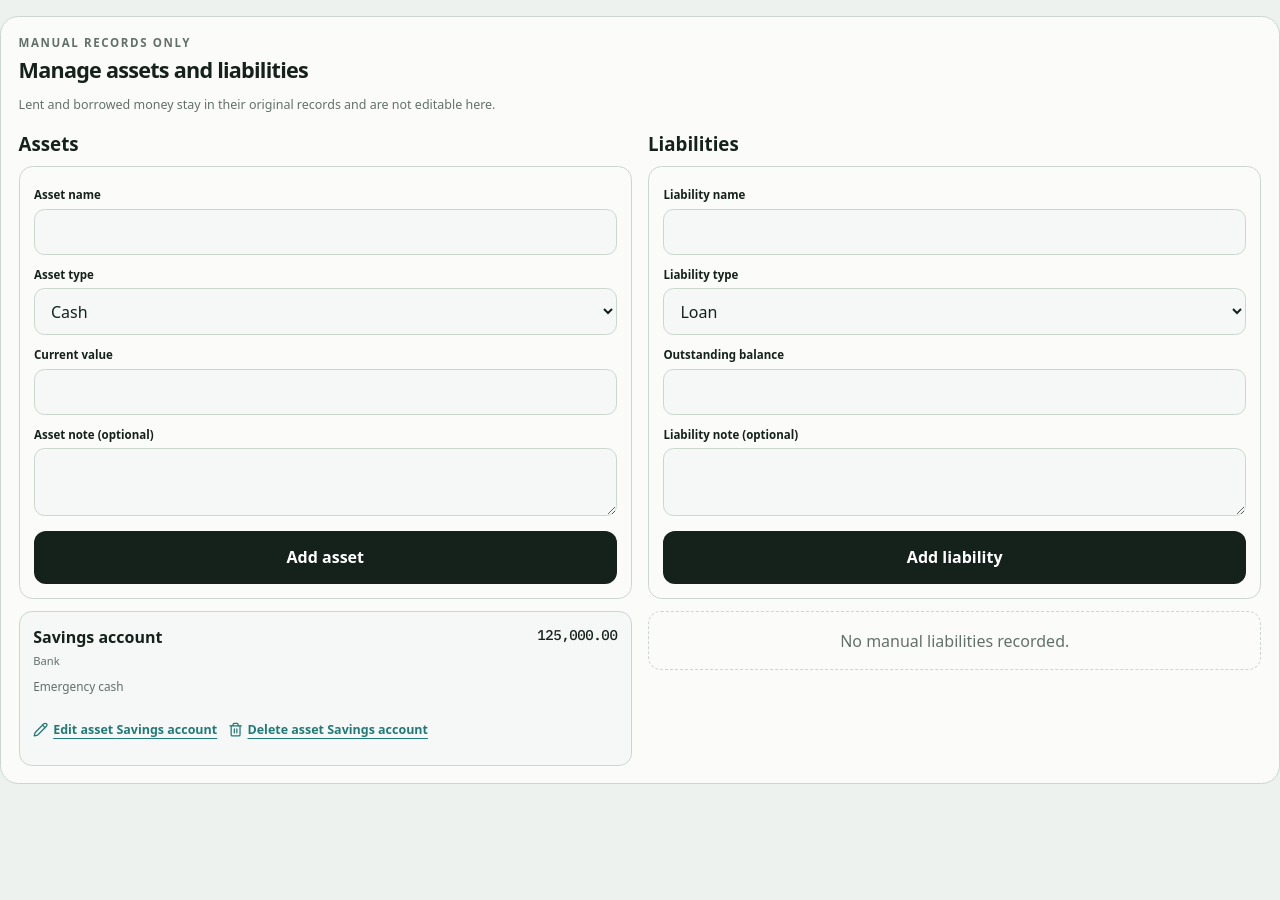
Scenario: NetWorthEditor › cancels deletion without a request, then deletes and refreshes after confirmation
Click the button "Delete asset Savings account" at [328, 729], box [228, 707, 428, 751]
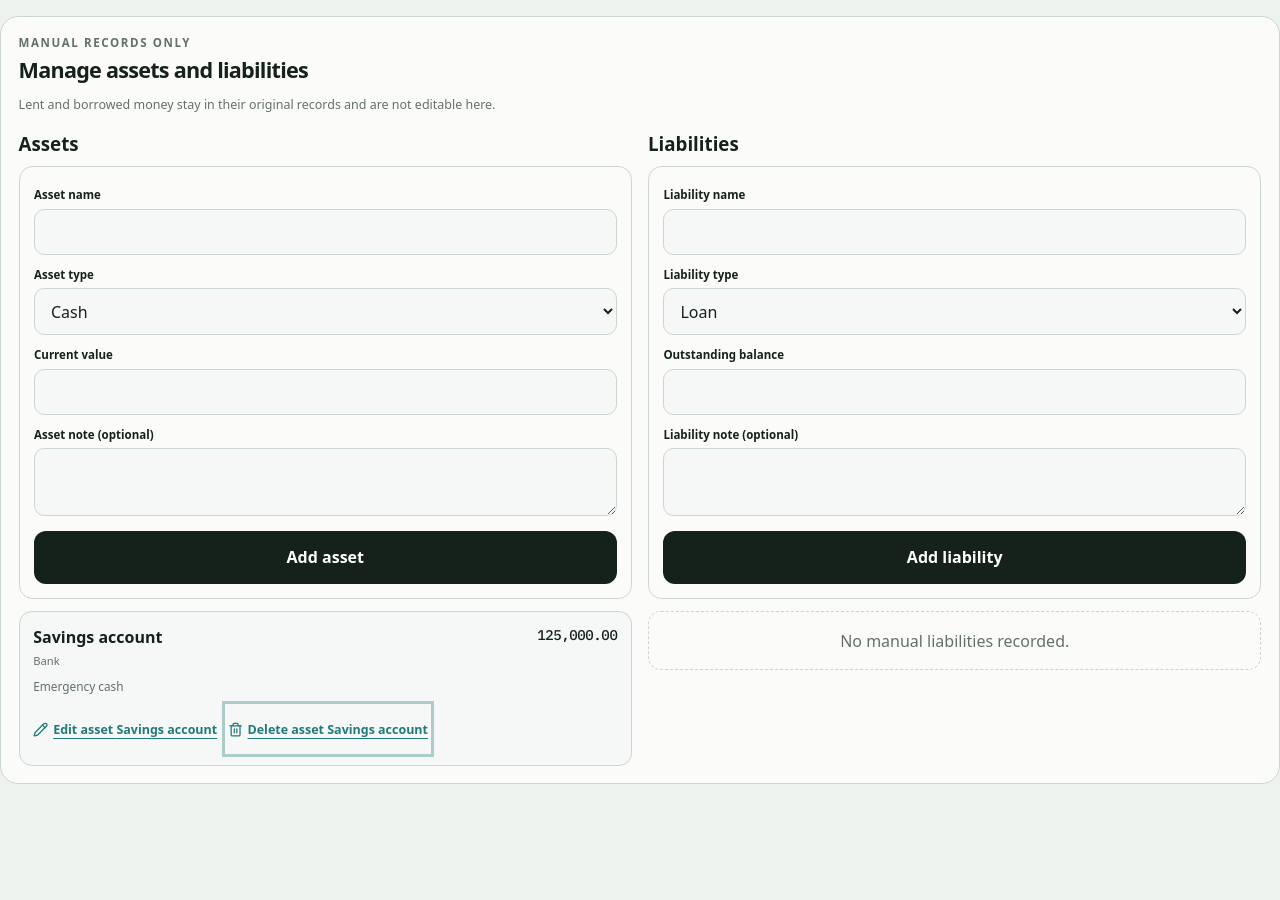
Click the button "Delete asset Savings account" at [328, 729], box [228, 707, 428, 751]
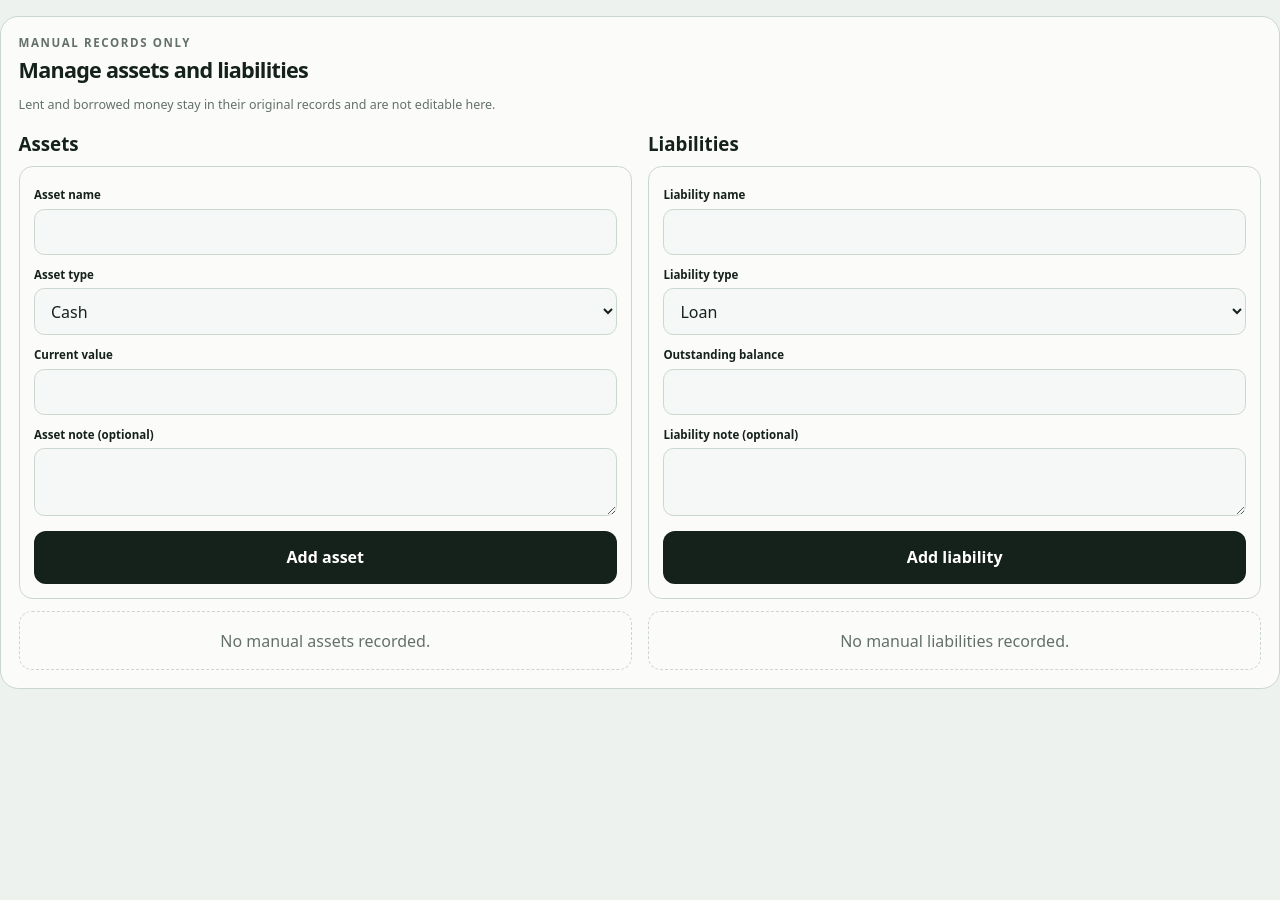
Expected: the heading "Savings account" is gone
